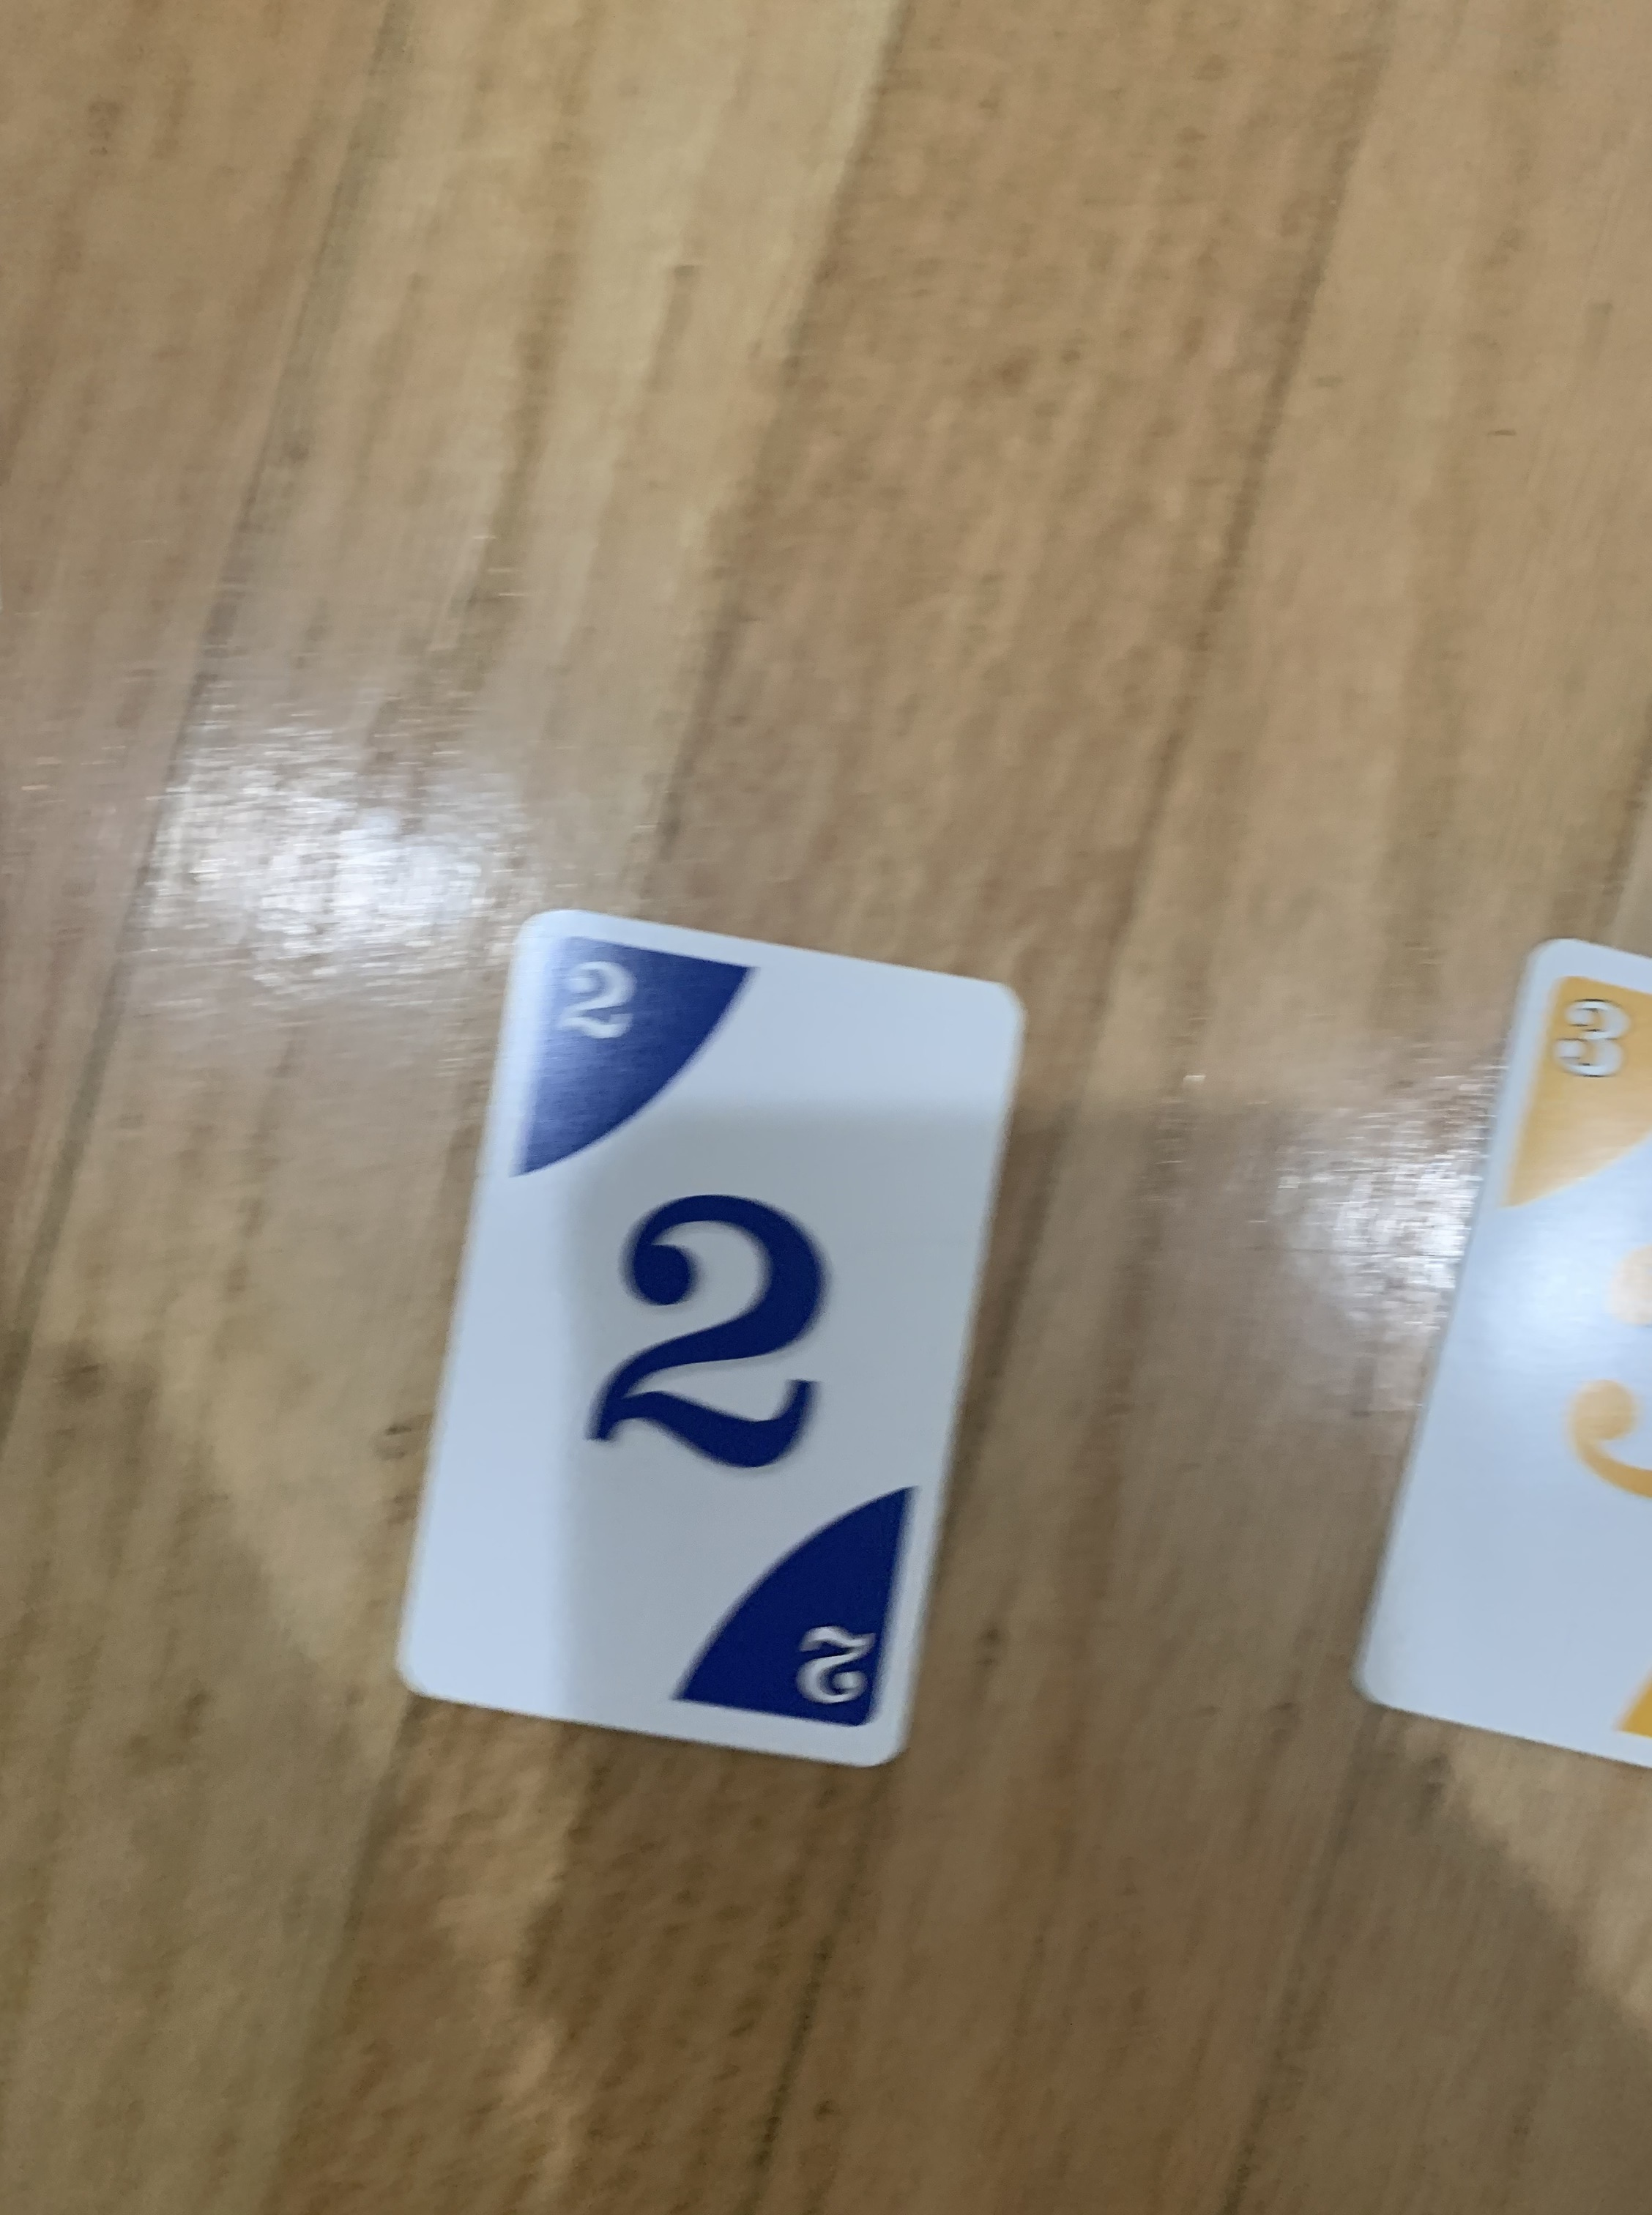two: (394, 901, 1032, 1786)
